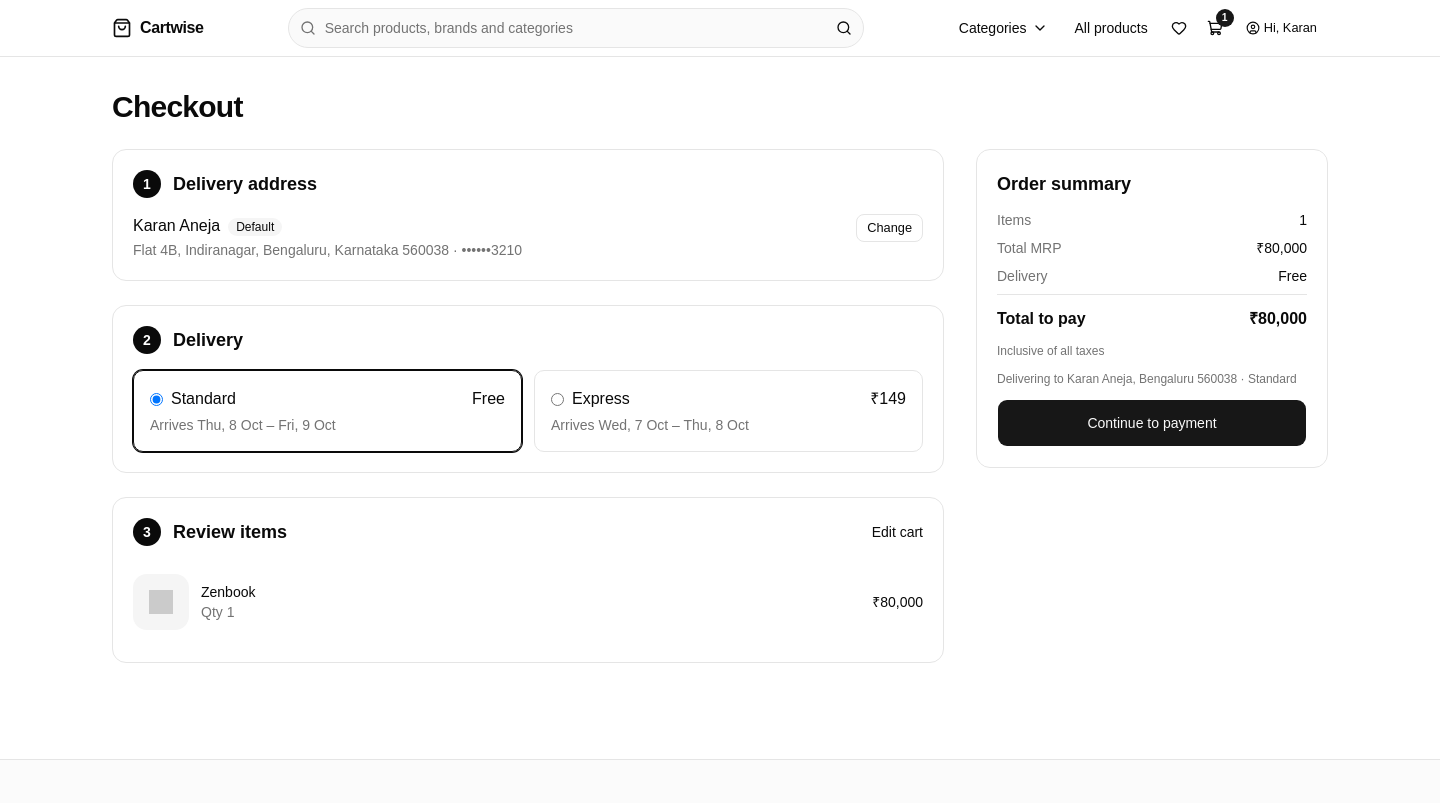
Test: checkout page › switches to Express and updates the total
Click the radio button labelled "Express ₹149 Arrives Wed, 7 Oct – Thu, 8 Oct".
click(558, 399)  # box [551, 392, 564, 406]
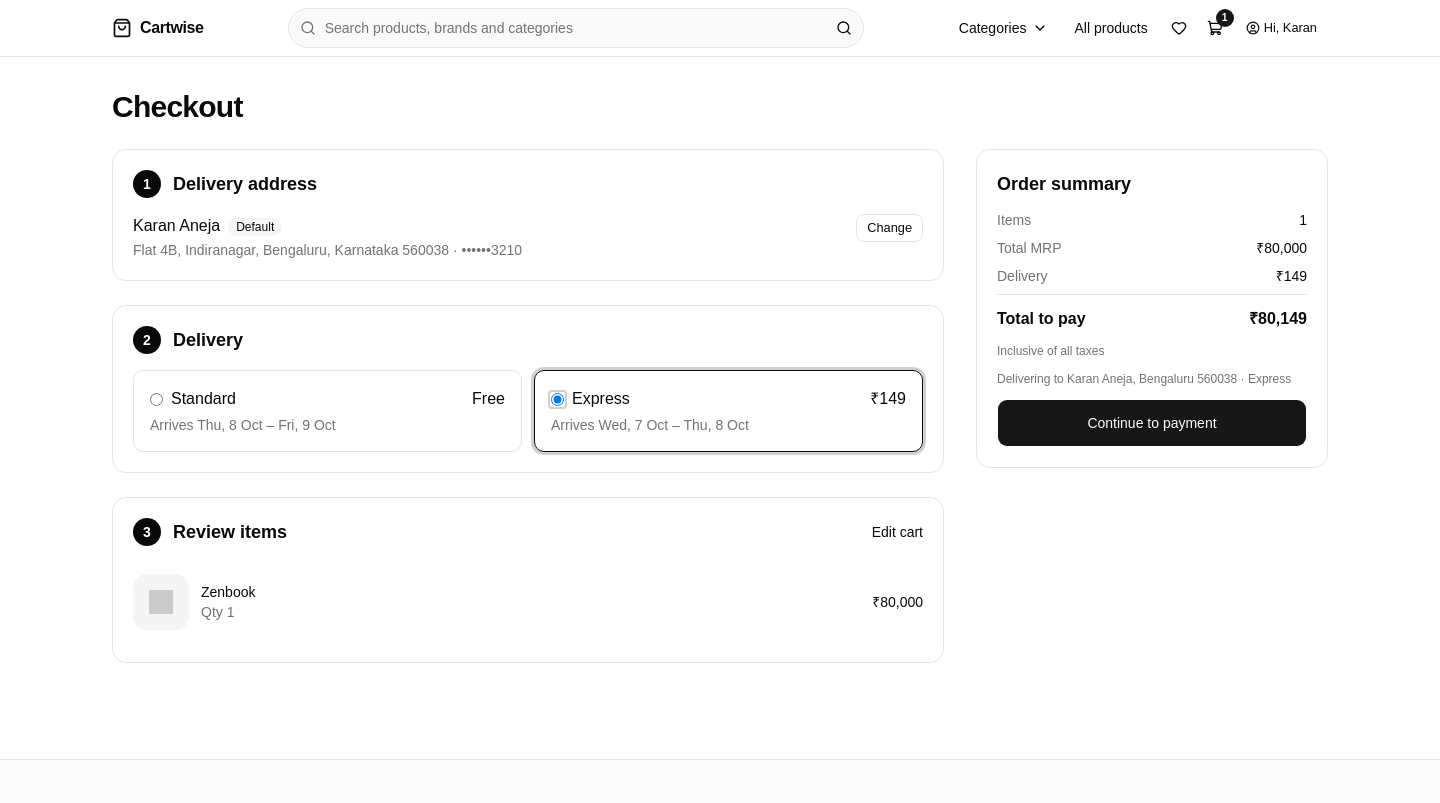
Check: the text "₹149" below "Total MRP" is shown, box [1276, 268, 1307, 284]
